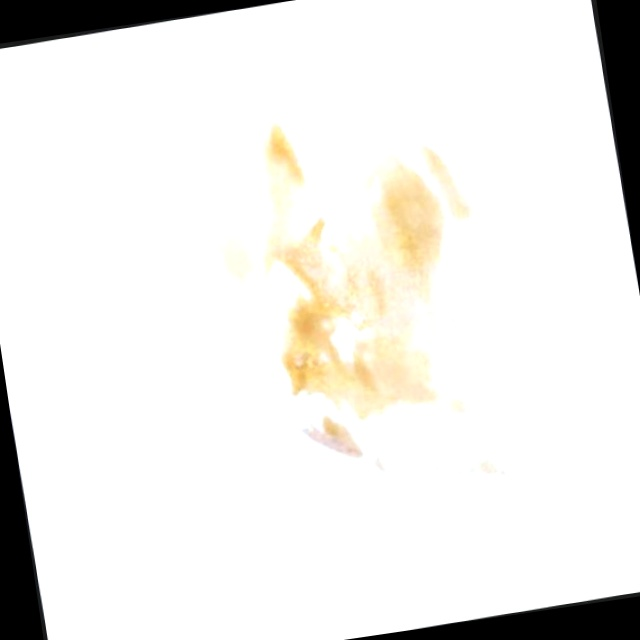coffee: (249, 99, 486, 447), (191, 131, 266, 328)
